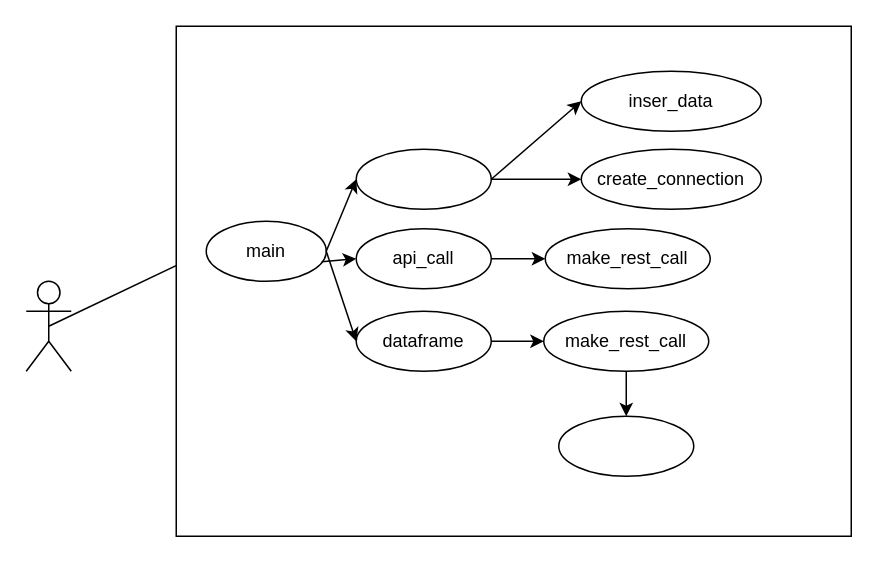
The diagram is 878 pixels wide and 563 high, and some of its shapes have lost their labels. The centre of each missing label's shape, as x and y in pixels:
"db" goes at point 423,178.
"encrypt" goes at point 625,445.
"User" goes at point 48,325.
